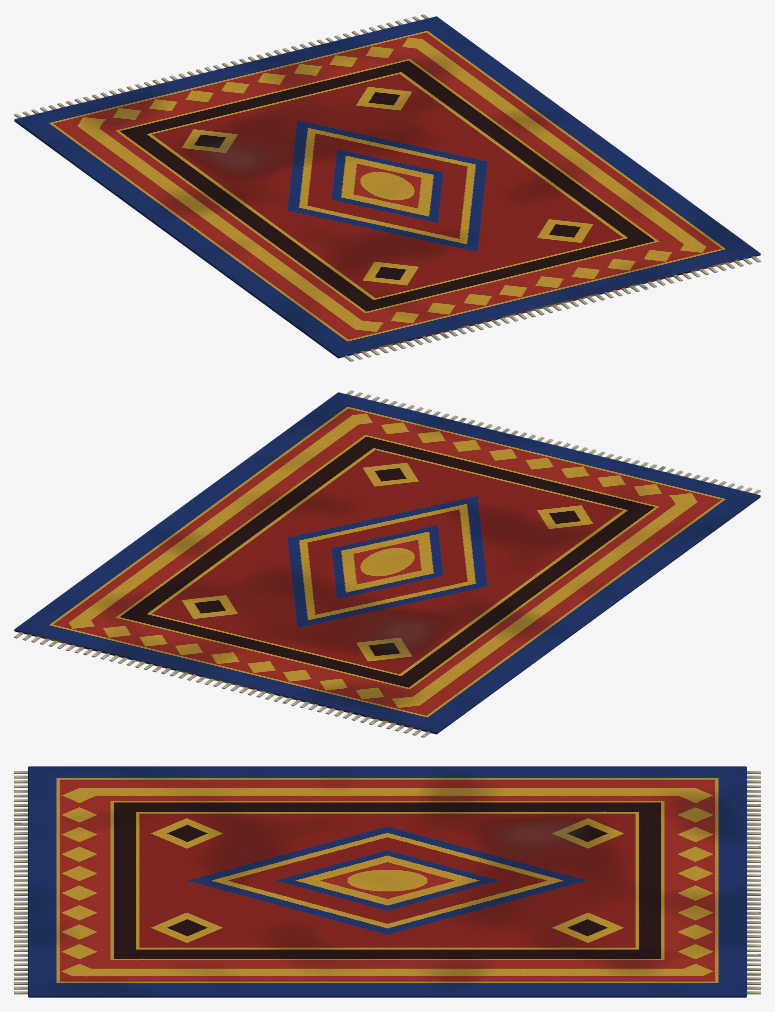
The model's file is rug_ornate.glb.
3 views of the same model, one above another, from view 1: azimuth 30°, elevation 25°; view 2: azimuth 150°, elevation 25°; view 3: azimuth 270°, elevation 25° (orthographic). The views are drawn at different scales.
Visible parts, largest first — view 1: rug_ornate; view 2: rug_ornate; view 3: rug_ornate.
Part boxes in pixels (bbox=[...]): rug_ornate: bbox=[14, 14, 760, 361]; rug_ornate: bbox=[14, 390, 760, 737]; rug_ornate: bbox=[14, 766, 760, 997].
Bounding box in the file's own units: 2.11 × 0.012 × 2.91.
2 materials, 2 textured.
